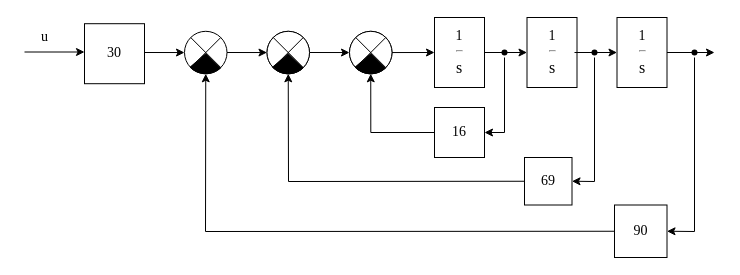
Some shapes in this 740 by 275 pixel diagram are drawn without their labels. The centre of each missing label's shape, as x and y in pixels:
"x 1" belongs at point (694, 52).
"x 2" belongs at point (594, 52).
"x 3" belongs at point (504, 52).
